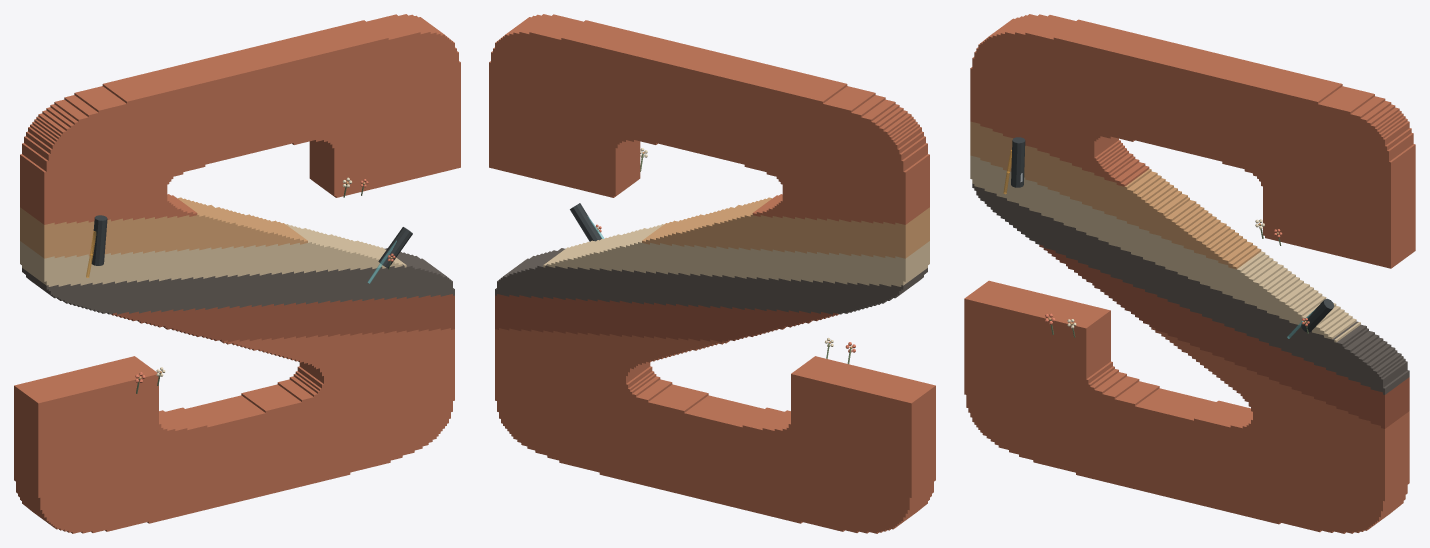
The model's file is salomon-terraforma-s.glb.
The picture shows the model from 3 angles, left to right: view 1: azimuth 30°, elevation 25°; view 2: azimuth 150°, elevation 25°; view 3: azimuth 330°, elevation 25°; orthographic projection.
Parts seen in each view (by area): view 1: Salomon_Terraforma_S; view 2: Salomon_Terraforma_S; view 3: Salomon_Terraforma_S.
Boxes of the visible parts, x1=… form: Salomon_Terraforma_S: x1=14, y1=14, x2=460, y2=533; Salomon_Terraforma_S: x1=489, y1=14, x2=935, y2=533; Salomon_Terraforma_S: x1=964, y1=14, x2=1415, y2=533.
Bounding box in the file's own units: 3.4 × 3.29 × 0.4708.
